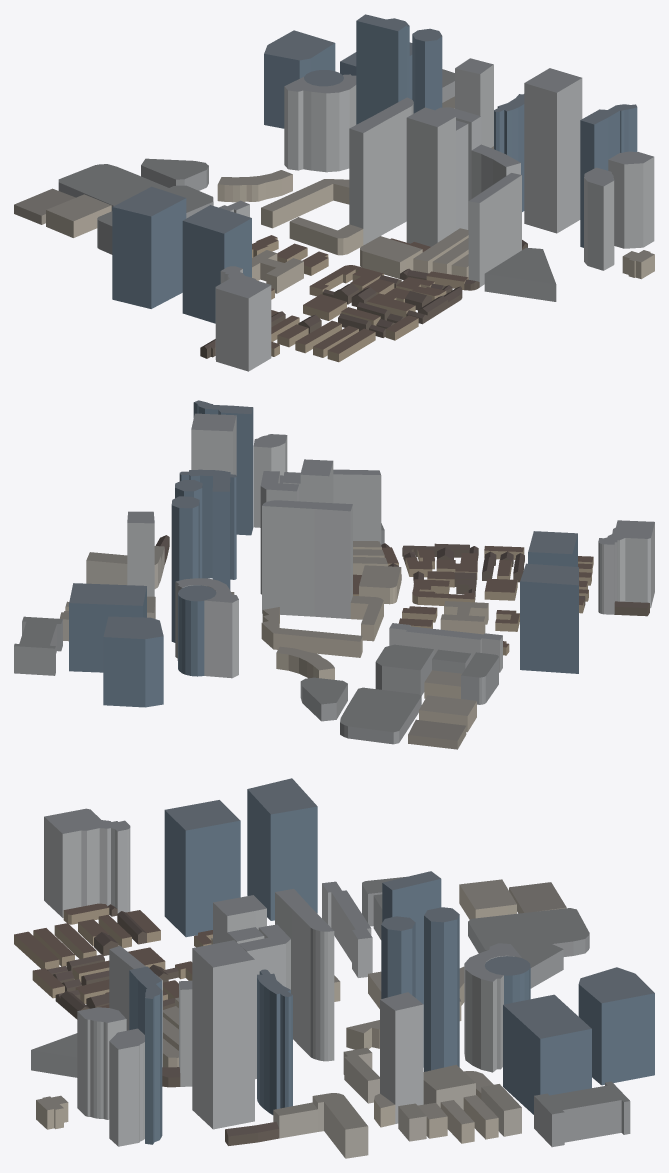
Rendered from tile_4_9.glb.
3 renders of one model, top to bottom at view 1: azimuth 30°, elevation 25°; view 2: azimuth 150°, elevation 25°; view 3: azimuth 270°, elevation 25°, orthographic. The views are drawn at different scales.
Parts seen in each view (by area): view 1: HP-w369237938, HP-w1211773151, HP-w369237892, HP-w160895228, HP-w369237986, HP-w868525509, HP-w378107113, HP-w1197052537, HP-w1156324947, HP-w369238013, HP-w159947152, HP-w1415996977 (+32 smaller); view 2: HP-w1211773151, HP-w369237890, HP-w159947152, HP-w868525509, HP-w137191549, HP-w1156324947, HP-w160895228, HP-w51317420, HP-w1415996977, HP-w1197052537, HP-w292718772, HP-w369237938 (+29 smaller); view 3: HP-w369237938, HP-w369237986, HP-w137191549, HP-w1211773151, HP-w868525509, HP-w159947152, HP-w369237890, HP-w292718772, HP-w378107174, HP-w799017742, HP-w380339945, HP-w160895228 (+38 smaller).
Boxes of the visible parts, left/top/right/bottom form: HP-w369237938: left=524, top=68, right=582, bottom=233; HP-w1211773151: left=112, top=186, right=186, bottom=308; HP-w369237892: left=406, top=107, right=455, bottom=246; HP-w160895228: left=284, top=74, right=356, bottom=172; HP-w369237986: left=182, top=205, right=251, bottom=323; HP-w868525509: left=215, top=266, right=271, bottom=371; HP-w378107113: left=356, top=14, right=407, bottom=124; HP-w1197052537: left=468, top=173, right=521, bottom=287; HP-w1156324947: left=349, top=116, right=386, bottom=245; HP-w369238013: left=608, top=151, right=654, bottom=248; HP-w159947152: left=264, top=30, right=335, bottom=128; HP-w1415996977: left=580, top=104, right=637, bottom=247; HP-w1211773151: left=520, top=563, right=578, bottom=673; HP-w369237890: left=262, top=500, right=316, bottom=616; HP-w159947152: left=103, top=616, right=163, bottom=707; HP-w868525509: left=598, top=520, right=654, bottom=614; HP-w137191549: left=69, top=583, right=146, bottom=672; HP-w1156324947: left=314, top=502, right=352, bottom=618; HP-w160895228: left=175, top=578, right=238, bottom=678; HP-w51317420: left=340, top=687, right=421, bottom=744; HP-w1415996977: left=193, top=400, right=253, bottom=535; HP-w1197052537: left=333, top=469, right=381, bottom=544; HP-w292718772: left=171, top=496, right=199, bottom=642; HP-w369237938: left=191, top=413, right=236, bottom=475; HP-w369237938: left=192, top=940, right=254, bottom=1129; HP-w369237986: left=164, top=800, right=240, bottom=937; HP-w137191549: left=503, top=994, right=591, bottom=1114; HP-w1211773151: left=247, top=778, right=317, bottom=920; HP-w868525509: left=44, top=808, right=130, bottom=917; HP-w159947152: left=578, top=967, right=654, bottom=1085; HP-w369237890: left=292, top=906, right=334, bottom=1061; HP-w292718772: left=424, top=907, right=459, bottom=1071; HP-w378107174: left=380, top=992, right=423, bottom=1123; HP-w799017742: left=257, top=969, right=292, bottom=1114; HP-w380339945: left=534, top=1081, right=630, bottom=1147; HP-w160895228: left=464, top=943, right=521, bottom=1072.
Bounding box in the file's own units: 544 × 171 × 538.
